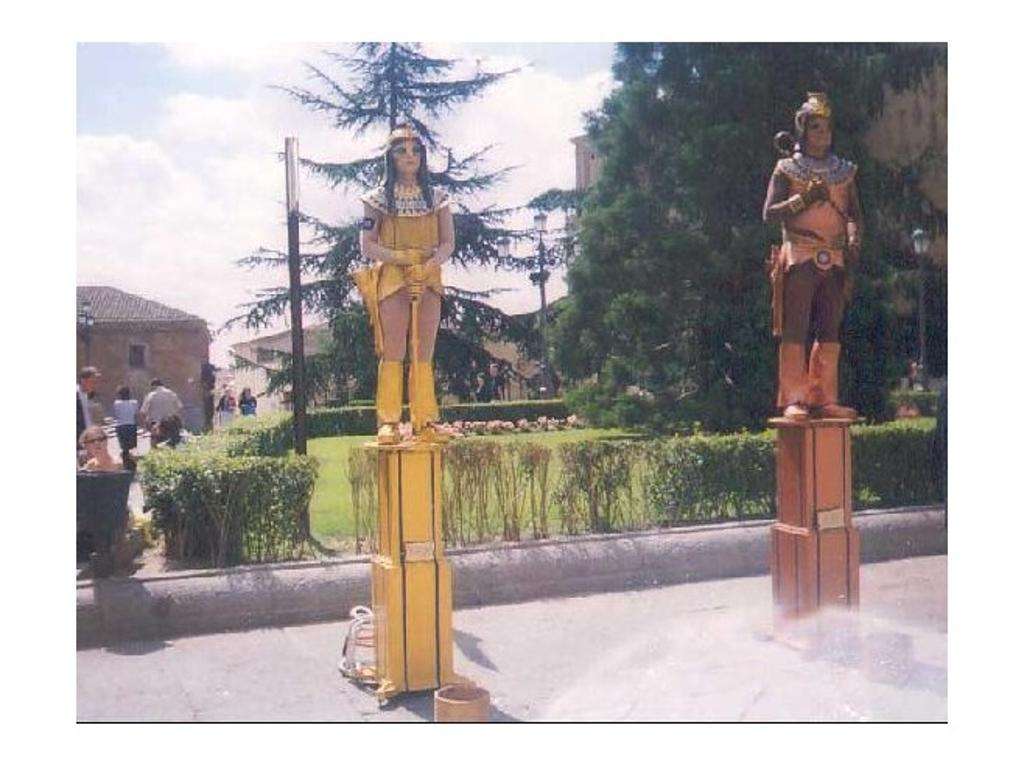face: (807, 117, 833, 149), (393, 142, 419, 172), (89, 432, 106, 457), (87, 373, 98, 393)
